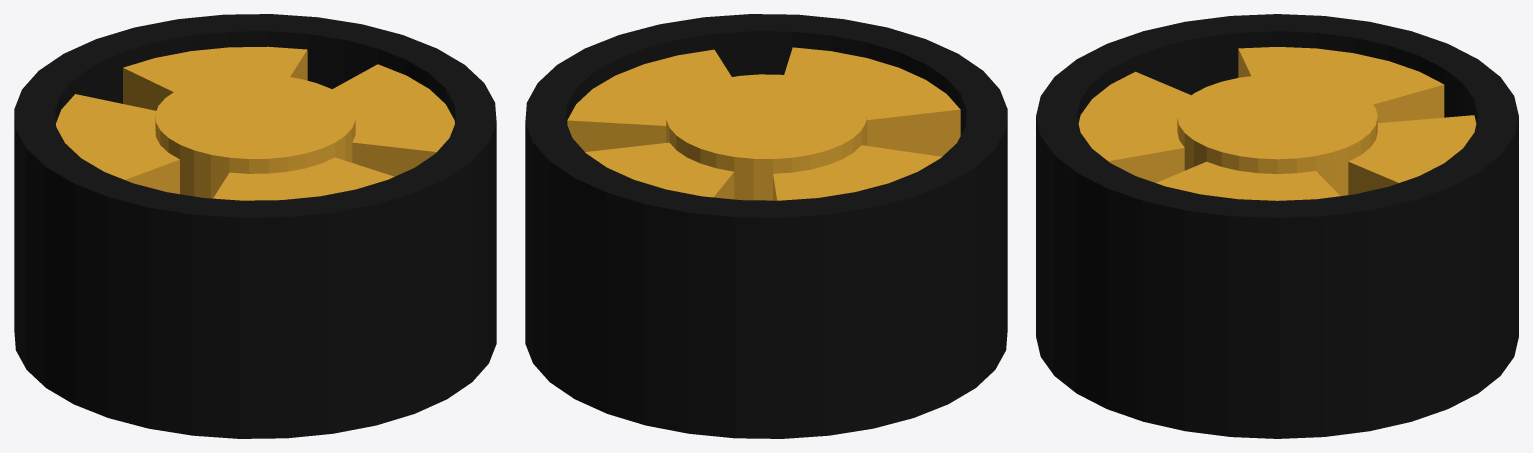
Rendered from PneuTeste.fbx.
3 views of the same model, side by side, from view 1: azimuth 30°, elevation 25°; view 2: azimuth 150°, elevation 25°; view 3: azimuth 270°, elevation 25° (orthographic).
Parts seen in each view (by area): view 1: pneu frontal 1; view 2: pneu frontal 1; view 3: pneu frontal 1.
Part boxes in pixels (x1,y1,x2,y2): pneu frontal 1: (14,14,496,438); pneu frontal 1: (525,14,1007,438); pneu frontal 1: (1036,14,1518,438).
Size of the model in its own units: 106 by 53.64 by 106.
